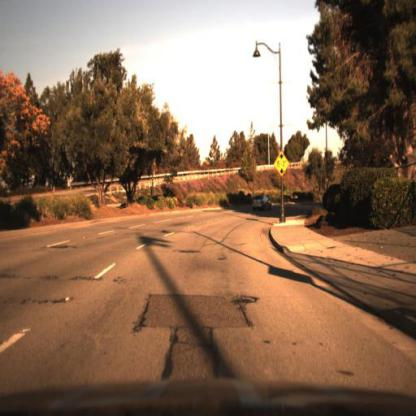car: (252, 191, 274, 214)
